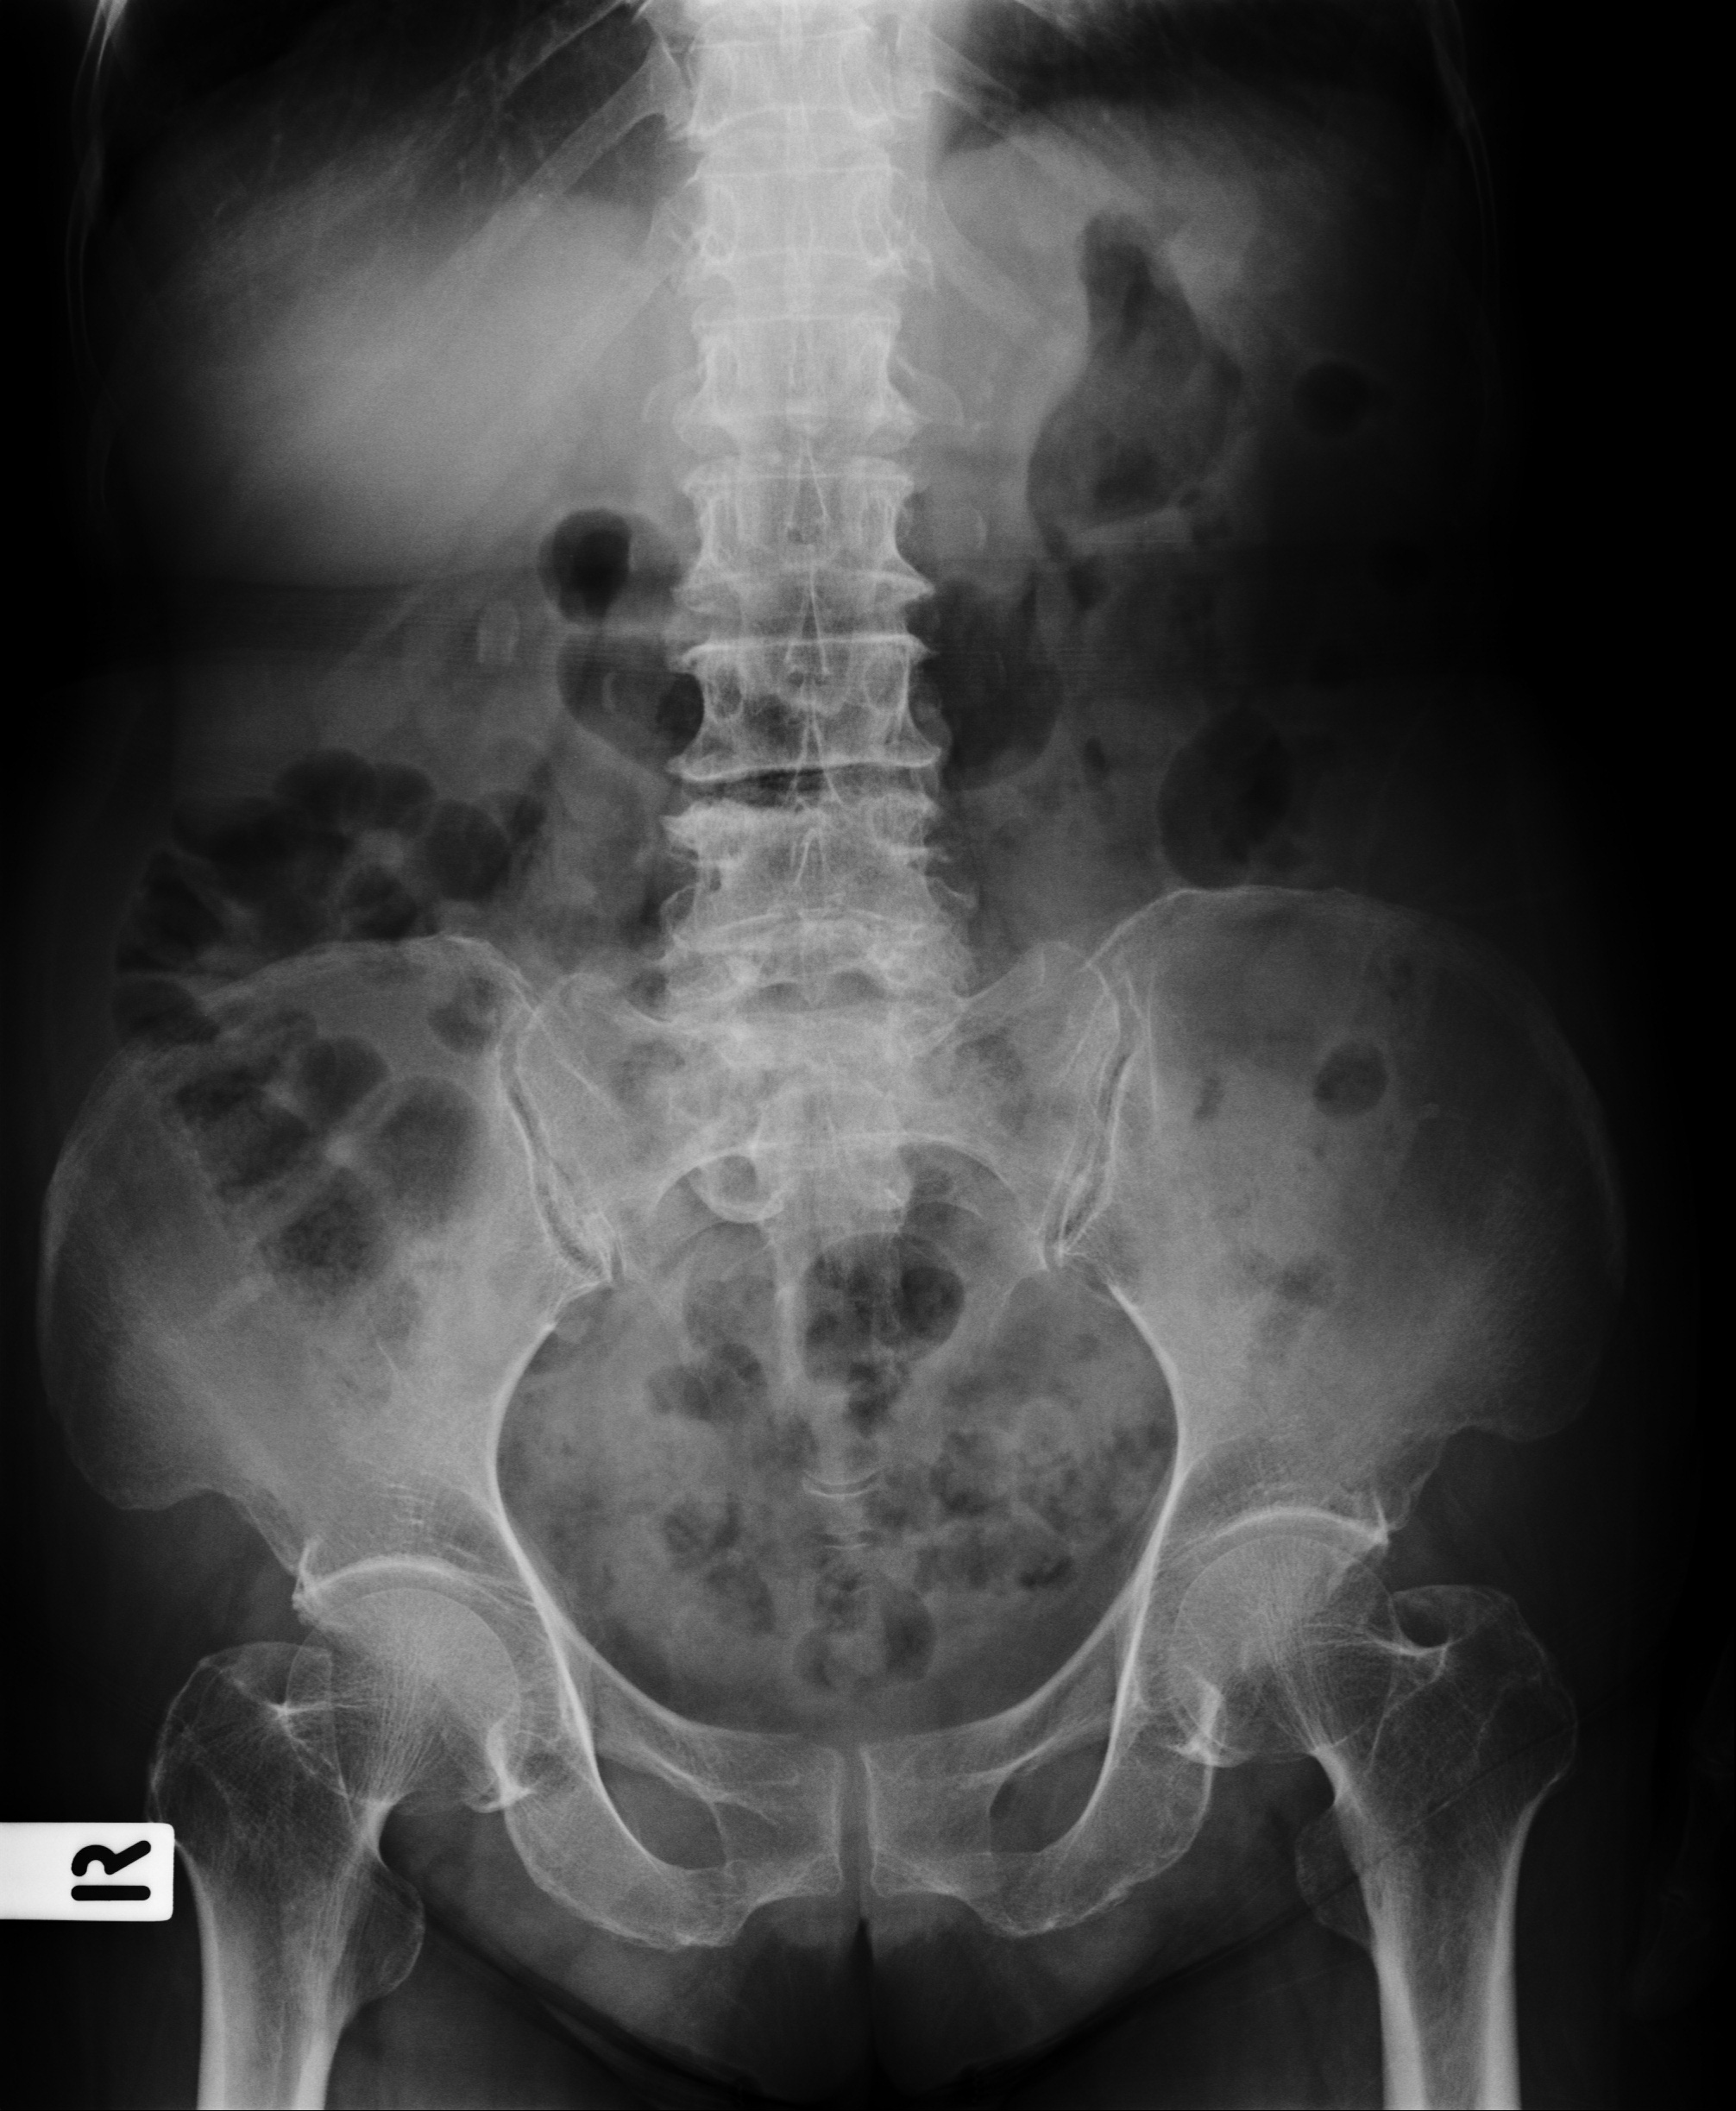lumbar scoliosis: (659, 14, 956, 1091)
